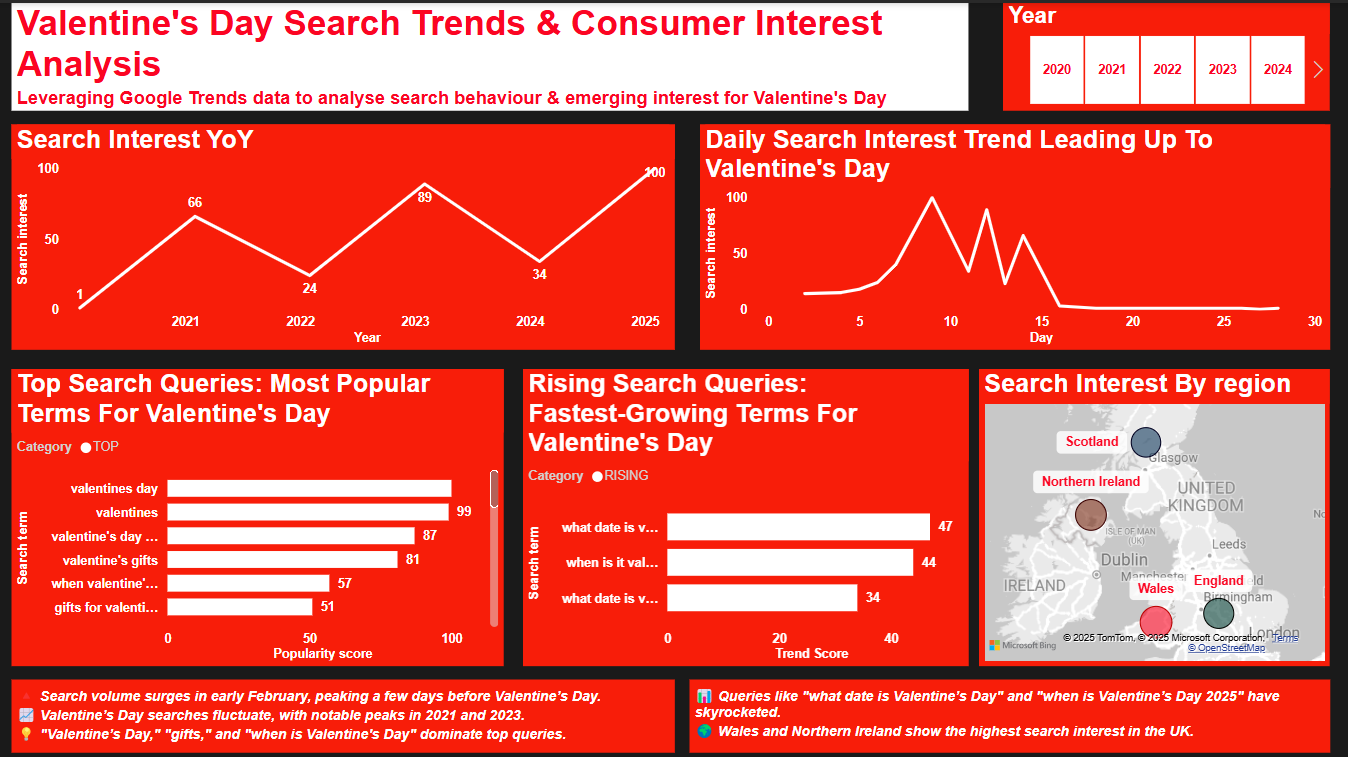

This screenshot's page, from the dashboard's own definition file:
{"tool":"powerbi","page":{"name":"Valentine Analysis","canvas":[1280,720],"ordinal":0},"visuals":[{"type":"lineChart","title":"Search Interest YoY","fields":{"Category":["googletrend_multiTimeline_data.Week.Variation.Date Hierarchy.Year","googletrend_multiTimeline_data.Week.Variation.Date Hierarchy.Quarter","googletrend_multiTimeline_data.Week.Variation.Date Hierarchy.Month","googletrend_multiTimeline_data.Week.Variation.Date Hierarchy.Day"],"Y":["Max(googletrend_multiTimeline_data.Search interest)"]},"box":[12.8,115,627.7,213],"z":0},{"type":"slicer","title":"Year","fields":{"Values":["googletrend_multiTimeline_data.Week.Variation.Date Hierarchy.Year"]},"box":[951.5,0,309.6,102.2],"z":1000},{"type":"textbox","title":"Valentine''s Day Search Trends & Consumer Interest Analysis","box":[12.8,0,906,102.2],"z":2000},{"type":"map","title":"Search Interest By region","fields":{"Category":["Googletrend_geoMap_data.Region"],"Size":["Sum(Googletrend_geoMap_data.Search interest)"],"Y":["Avg(Googletrend_geoMap_data.UK_Regions_Coordinates.Latitude)"],"X":["Avg(Googletrend_geoMap_data.UK_Regions_Coordinates.Longitude)"]},"box":[928.8,346.5,332.3,281.2],"z":3000},{"type":"lineChart","title":"Daily Search Interest Trend Leading Up To Valentine''s Day","fields":{"Category":["googletrend_multiTimeline_data.Week.Variation.Date Hierarchy.Day"],"Y":["Max(googletrend_multiTimeline_data.Search interest)"]},"box":[664.6,115,596.5,213],"z":3001},{"type":"barChart","title":"Top Search Queries: Most Popular Terms For Valentine''s Day","fields":{"Series":["Top_relatedQueries.Category"],"Category":["Top_relatedQueries.Search term"],"Y":["Sum(Top_relatedQueries.Popularity Score)"]},"box":[12.8,346.5,465.8,281.2],"z":3002},{"type":"barChart","title":"Rising Search Queries: Fastest-Growing Terms For Valentine''s Day","fields":{"Series":["Rising_relatedQueries.Category"],"Category":["Rising_relatedQueries.Search term"],"Y":["Sum(Rising_relatedQueries.Trend Score)"]},"box":[497,346.5,421.8,281.2],"z":3003},{"type":"textbox","box":[12.8,640.5,627.7,69.6],"z":3004},{"type":"textbox","box":[654.7,640.5,606.4,69.6],"z":3005}]}

Visuals, with their boxes in screenshot pixels (x1, y1, x2, y2), scaled from the page's 1280x720 canvas onto the 1348x757 screenshot:
"Search Interest YoY" lineChart: [x1=13, y1=121, x2=675, y2=345]
"Year" slicer: [x1=1002, y1=0, x2=1328, y2=107]
"Valentine''s Day Search Trends & Consumer Interest Analysis" textbox: [x1=13, y1=0, x2=968, y2=107]
"Search Interest By region" map: [x1=978, y1=364, x2=1328, y2=660]
"Daily Search Interest Trend Leading Up To Valentine''s Day" lineChart: [x1=700, y1=121, x2=1328, y2=345]
"Top Search Queries: Most Popular Terms For Valentine''s Day" barChart: [x1=13, y1=364, x2=504, y2=660]
"Rising Search Queries: Fastest-Growing Terms For Valentine''s Day" barChart: [x1=523, y1=364, x2=968, y2=660]
textbox: [x1=13, y1=673, x2=675, y2=747]
textbox: [x1=689, y1=673, x2=1328, y2=747]
